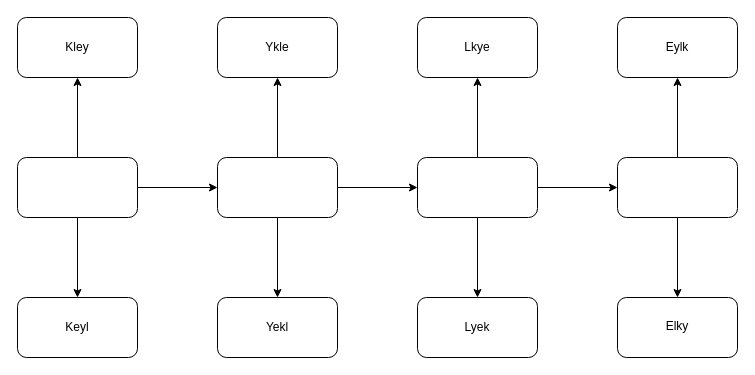
The diagram is 755 pixels wide and 375 high, and some of its shapes have lost their labels. Each missing label, with the centre of its shape:
"Ekyl" goes at (x=677, y=187).
"Kyle" goes at (x=77, y=187).
"Leky" goes at (x=477, y=187).
"Ylek" goes at (x=277, y=187).
